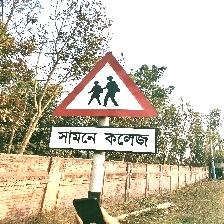College-in-front: (44, 42, 161, 160)
